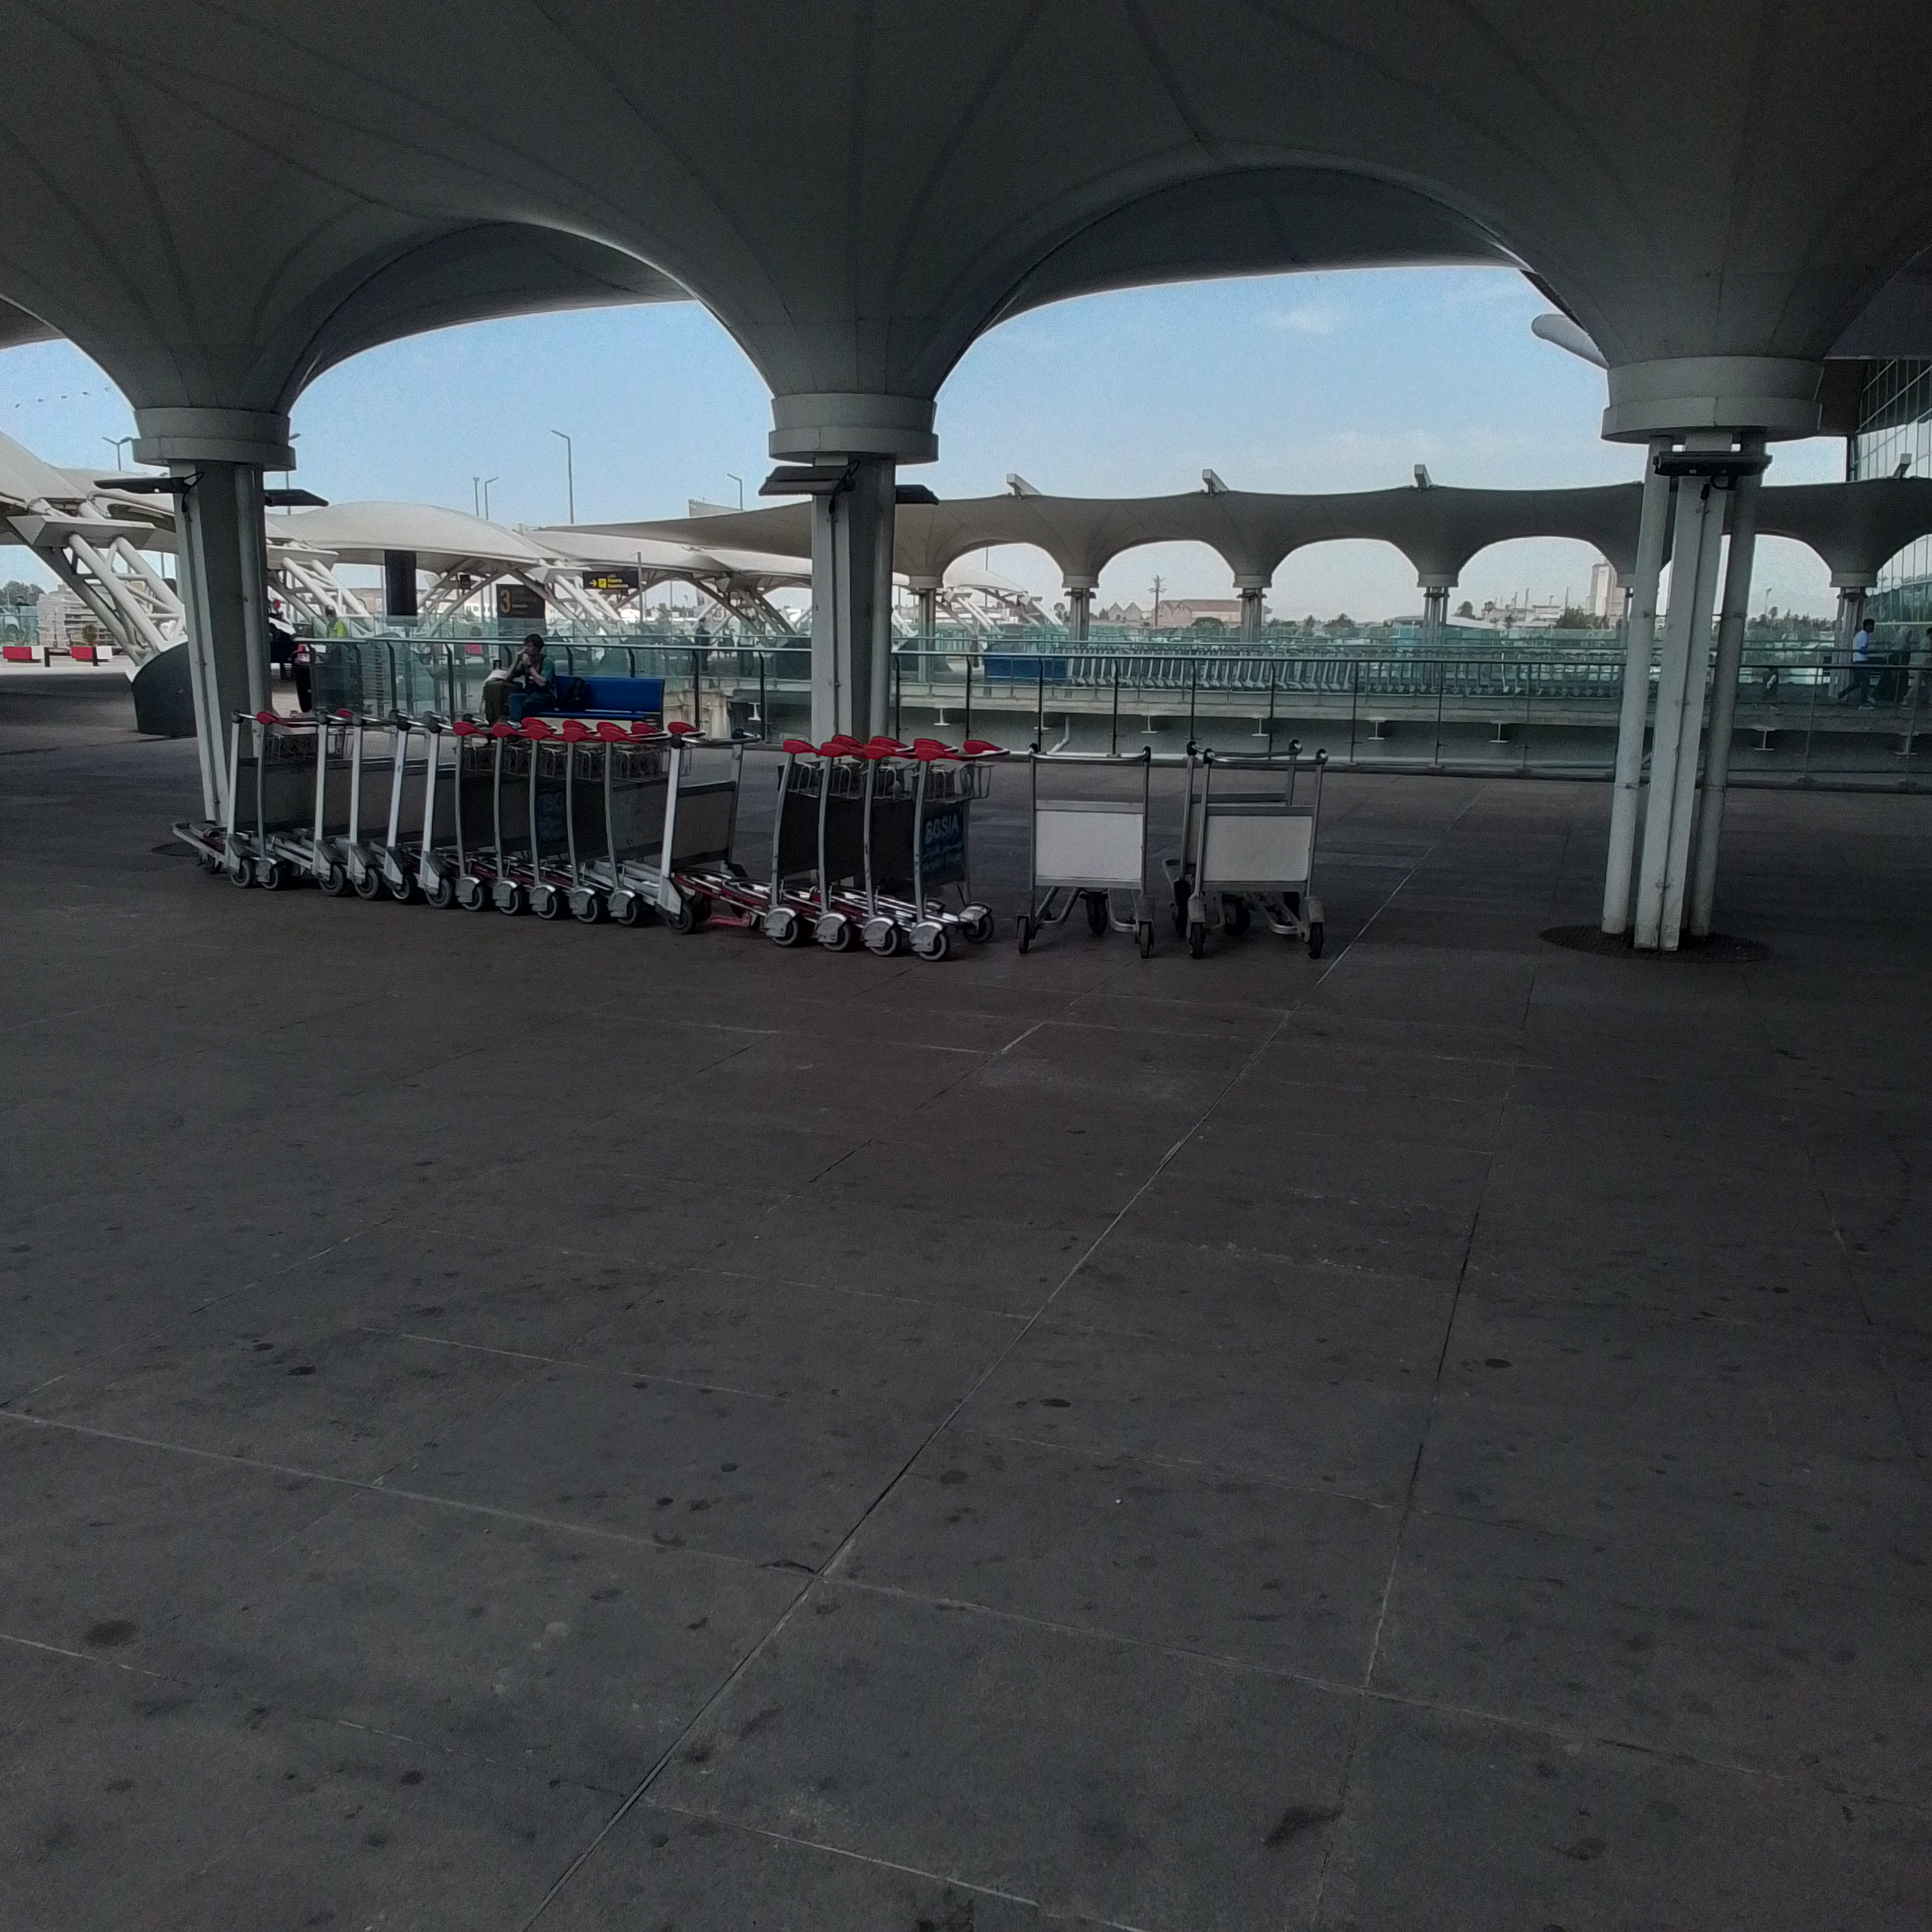airport-trolley: (828, 734, 1001, 957), (580, 731, 763, 938), (1166, 736, 1311, 938), (1021, 747, 1159, 952), (1192, 752, 1327, 952), (704, 734, 824, 952), (255, 706, 356, 881), (308, 709, 395, 897), (172, 701, 249, 888), (794, 736, 860, 952), (855, 736, 911, 957), (508, 720, 564, 925), (552, 720, 600, 938), (410, 708, 455, 913), (481, 720, 522, 915), (444, 720, 483, 916)
